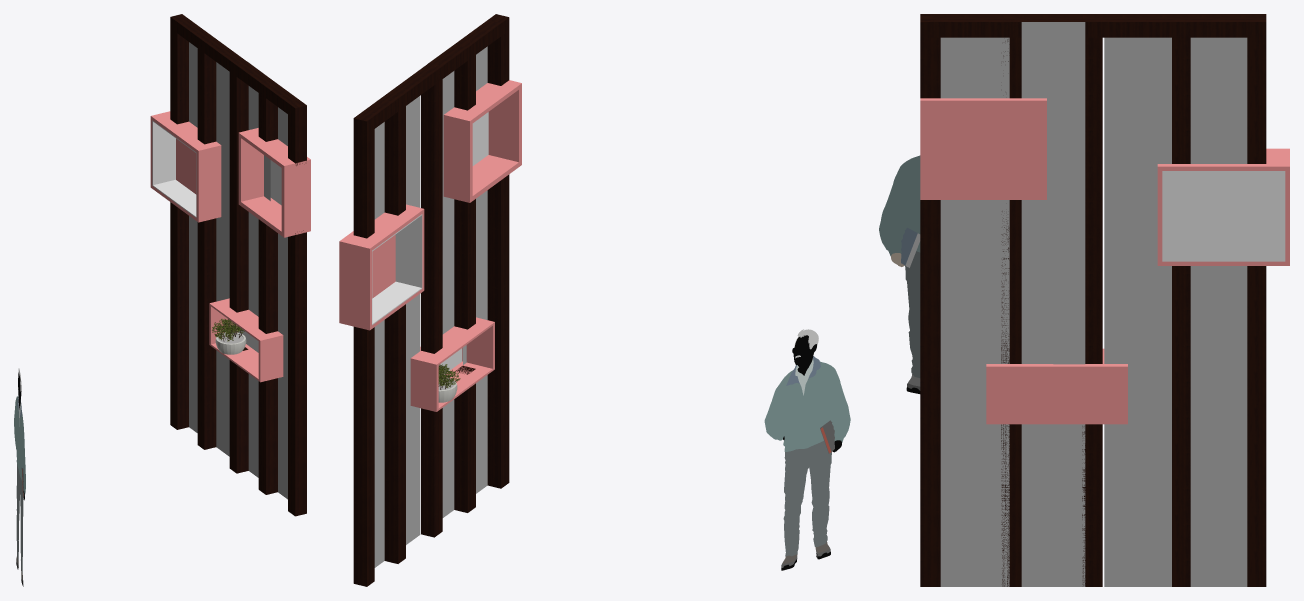
File: partition_wall.glb
3 views of the same model, side by side, from view 1: azimuth 30°, elevation 25°; view 2: azimuth 150°, elevation 25°; view 3: azimuth 270°, elevation 25° (orthographic). The views are drawn at different scales.
Visible parts, largest first — view 1: mesh_24_ROOT__Component_28792_Layer0_63_34_15_ss, mesh_4_ROOT_Layer0_128_128_128_ds, mesh_1_ROOT_Layer0_63_34_15_ss, mesh_26_ROOT__Component_28792__Component_28793_Layer0, mesh_23_ROOT__Component_28741_Layer0, mesh_27_ROOT__Component_28792__Component_28844_Layer0, mesh_5_ROOT_Layer0_63_34_15_ds, mesh_3_ROOT_Layer0_226_226_226_ds, mesh_7_ROOT_Layer0_255_84_84_ds, mesh_12_ROOT__Steve_Layer0_68_103_102_ds, mesh_6_ROOT_Layer0_226_226_226_ss, mesh_22_ROOT__Steve_Layer0_52_61_63_ds; view 2: mesh_24_ROOT__Component_28792_Layer0_63_34_15_ss, mesh_1_ROOT_Layer0_63_34_15_ss, mesh_4_ROOT_Layer0_128_128_128_ds, mesh_26_ROOT__Component_28792__Component_28793_Layer0, mesh_12_ROOT__Steve_Layer0_68_103_102_ds, mesh_23_ROOT__Component_28741_Layer0, mesh_27_ROOT__Component_28792__Component_28844_Layer0, mesh_22_ROOT__Steve_Layer0_52_61_63_ds, mesh_5_ROOT_Layer0_63_34_15_ds, mesh_3_ROOT_Layer0_226_226_226_ds, mesh_7_ROOT_Layer0_255_84_84_ds, mesh_6_ROOT_Layer0_226_226_226_ss; view 3: mesh_4_ROOT_Layer0_128_128_128_ds, mesh_24_ROOT__Component_28792_Layer0_63_34_15_ss, mesh_1_ROOT_Layer0_63_34_15_ss, mesh_2_ROOT_Layer0_255_84_84_ss, mesh_3_ROOT_Layer0_226_226_226_ds, mesh_5_ROOT_Layer0_63_34_15_ds, mesh_23_ROOT__Component_28741_Layer0, mesh_12_ROOT__Steve_Layer0_68_103_102_ds, mesh_26_ROOT__Component_28792__Component_28793_Layer0, mesh_27_ROOT__Component_28792__Component_28844_Layer0, mesh_22_ROOT__Steve_Layer0_52_61_63_ds, mesh_7_ROOT_Layer0_255_84_84_ds.
Boxes of the visible parts, x1,y1,x2,y2 form: mesh_24_ROOT__Component_28792_Layer0_63_34_15_ss: [229, 58, 306, 516]; mesh_4_ROOT_Layer0_128_128_128_ds: [189, 42, 287, 499]; mesh_1_ROOT_Layer0_63_34_15_ss: [170, 14, 216, 449]; mesh_26_ROOT__Component_28792__Component_28793_Layer0: [238, 128, 310, 237]; mesh_23_ROOT__Component_28741_Layer0: [150, 111, 221, 222]; mesh_27_ROOT__Component_28792__Component_28844_Layer0: [209, 298, 283, 382]; mesh_5_ROOT_Layer0_63_34_15_ds: [177, 19, 302, 113]; mesh_3_ROOT_Layer0_226_226_226_ds: [152, 120, 196, 217]; mesh_7_ROOT_Layer0_255_84_84_ds: [176, 138, 196, 194]; mesh_12_ROOT__Steve_Layer0_68_103_102_ds: [14, 396, 25, 495]; mesh_6_ROOT_Layer0_226_226_226_ss: [238, 160, 281, 352]; mesh_22_ROOT__Steve_Layer0_52_61_63_ds: [16, 464, 23, 572]; mesh_24_ROOT__Component_28792_Layer0_63_34_15_ss: [421, 14, 509, 537]; mesh_1_ROOT_Layer0_63_34_15_ss: [353, 90, 405, 586]; mesh_4_ROOT_Layer0_128_128_128_ds: [374, 46, 487, 567]; mesh_26_ROOT__Component_28792__Component_28793_Layer0: [443, 80, 521, 202]; mesh_12_ROOT__Steve_Layer0_68_103_102_ds: [764, 361, 850, 451]; mesh_23_ROOT__Component_28741_Layer0: [339, 204, 424, 330]; mesh_27_ROOT__Component_28792__Component_28844_Layer0: [410, 317, 494, 411]; mesh_22_ROOT__Steve_Layer0_52_61_63_ds: [783, 441, 831, 556]; mesh_5_ROOT_Layer0_63_34_15_ds: [361, 17, 505, 128]; mesh_3_ROOT_Layer0_226_226_226_ds: [372, 214, 422, 324]; mesh_7_ROOT_Layer0_255_84_84_ds: [372, 234, 395, 298]; mesh_6_ROOT_Layer0_226_226_226_ss: [439, 112, 488, 375]; mesh_4_ROOT_Layer0_128_128_128_ds: [940, 22, 1247, 586]; mesh_24_ROOT__Component_28792_Layer0_63_34_15_ss: [920, 14, 1102, 586]; mesh_1_ROOT_Layer0_63_34_15_ss: [940, 14, 1266, 586]; mesh_2_ROOT_Layer0_255_84_84_ss: [925, 105, 1122, 421]; mesh_3_ROOT_Layer0_226_226_226_ds: [1162, 171, 1285, 261]; mesh_5_ROOT_Layer0_63_34_15_ds: [930, 14, 1247, 37]; mesh_23_ROOT__Component_28741_Layer0: [1157, 148, 1289, 265]; mesh_12_ROOT__Steve_Layer0_68_103_102_ds: [879, 155, 920, 256]; mesh_26_ROOT__Component_28792__Component_28793_Layer0: [920, 98, 1046, 199]; mesh_27_ROOT__Component_28792__Component_28844_Layer0: [986, 348, 1127, 424]; mesh_22_ROOT__Steve_Layer0_52_61_63_ds: [905, 251, 920, 377]; mesh_7_ROOT_Layer0_255_84_84_ds: [991, 369, 1122, 374].
Bounding box in the file's own units: 2578 × 3353 × 2210.
Materials: 28 (5 with a texture image).
